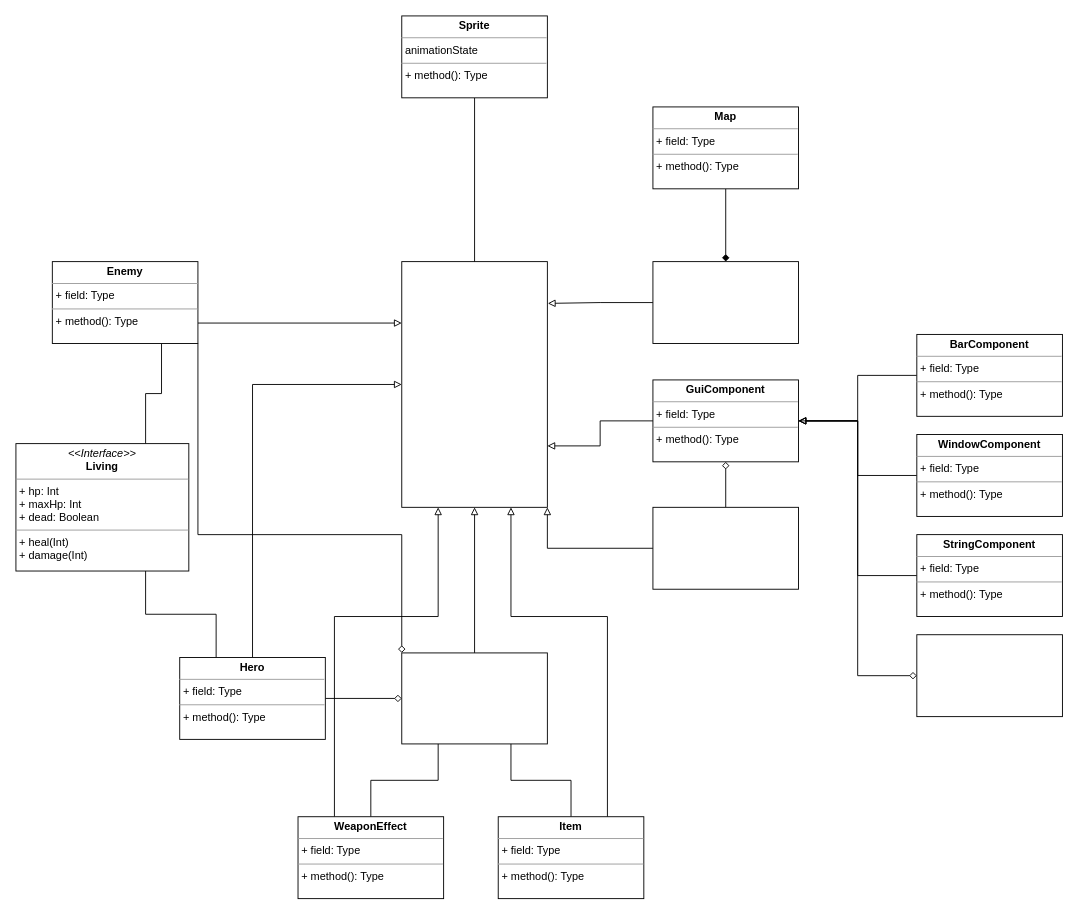
Image size: 1078x915. Some labels were removed from this diagram. The shapes that lost their labels are listed below. From the top down, each one's centre as x and y in pixels, then its label:
At [725,302]: "Tile + field: Type + method(): Type".
At [474,384]: "Entity x y width height speed xFromHero() yFromHero() center() collides() move()".
At [725,547]: "Gui + field: Type + method(): Type".
At [989,675]: "ButtonComponent + field: Type + method(): Type".
At [474,698]: "Weapon".
